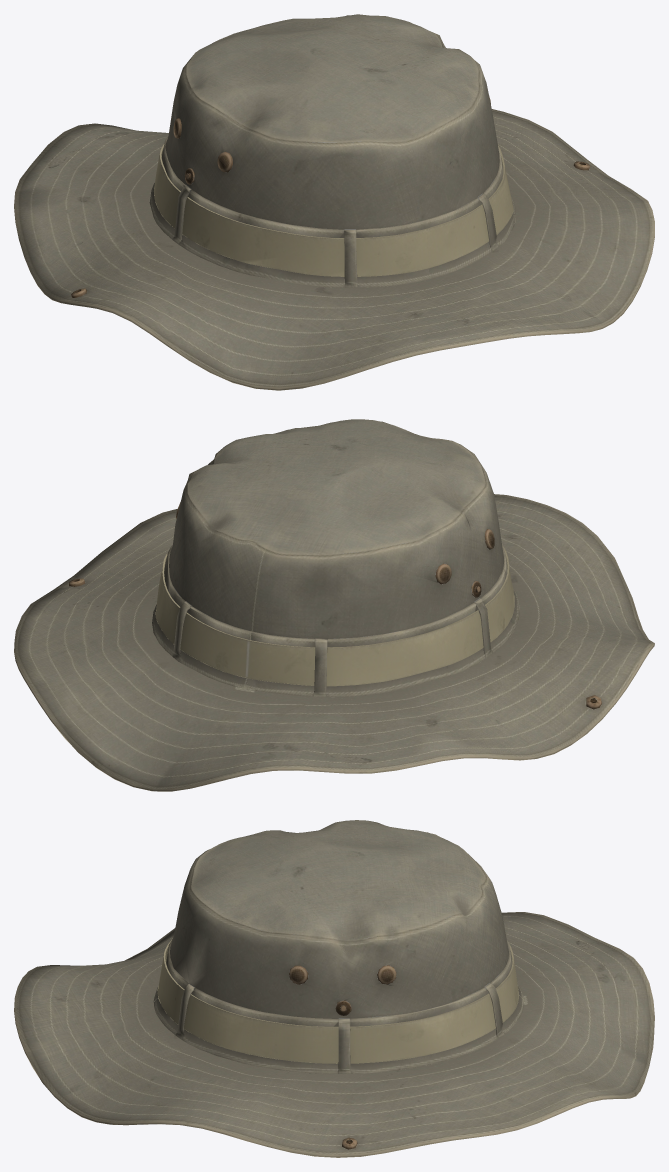
Rendered from chapeu.glb.
The picture shows the model from 3 angles, top to bottom: view 1: azimuth 30°, elevation 25°; view 2: azimuth 150°, elevation 25°; view 3: azimuth 270°, elevation 25°; orthographic projection. The views are drawn at different scales.
Parts seen in each view (by area): view 1: chapeu; view 2: chapeu; view 3: chapeu.
Boxes of the visible parts, box(x1,y1,x2,y2) form: chapeu: box(14, 14, 654, 390); chapeu: box(14, 419, 654, 791); chapeu: box(14, 820, 654, 1157).
Size of the model in its own units: 0.3235 by 0.1241 by 0.3499.
1 material, 1 textured.
